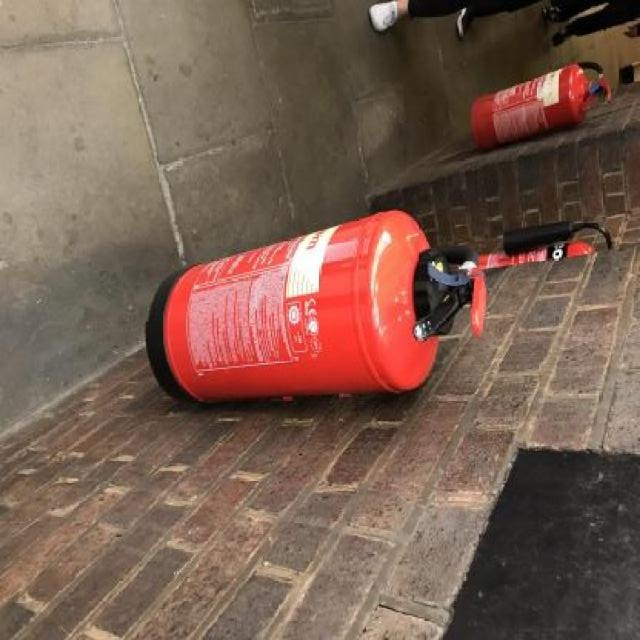fire extinguisher: (145, 209, 490, 406), (462, 64, 618, 148), (471, 218, 614, 277)
